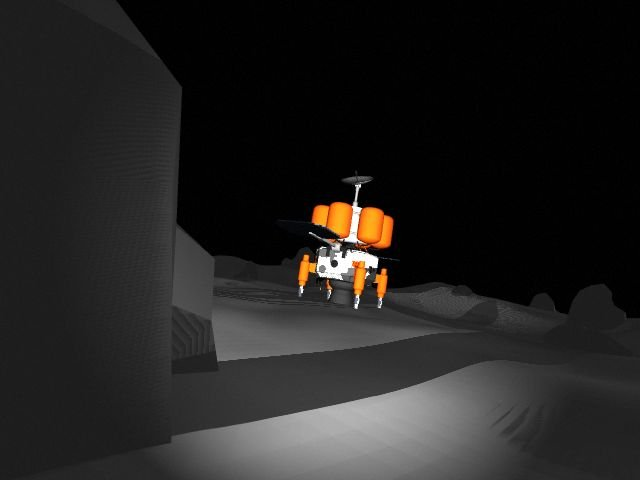homebase: (292, 167, 401, 314)
